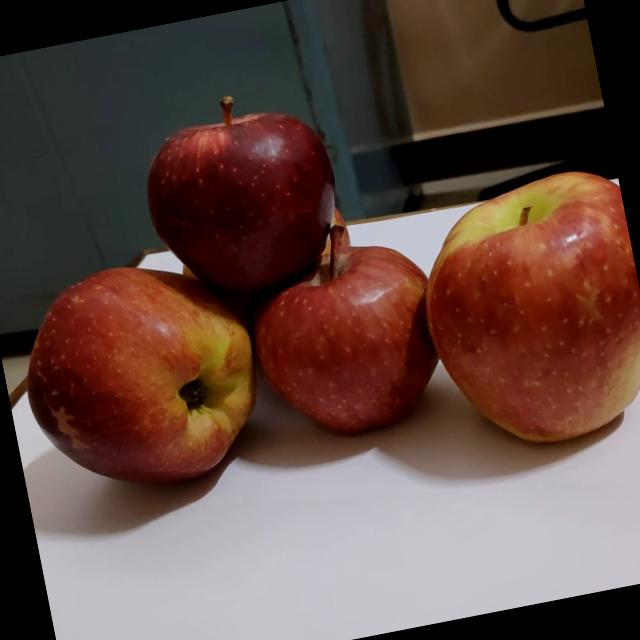apple: (7, 241, 288, 514), (402, 161, 640, 477), (126, 75, 362, 318), (233, 209, 457, 458), (173, 257, 210, 294)
